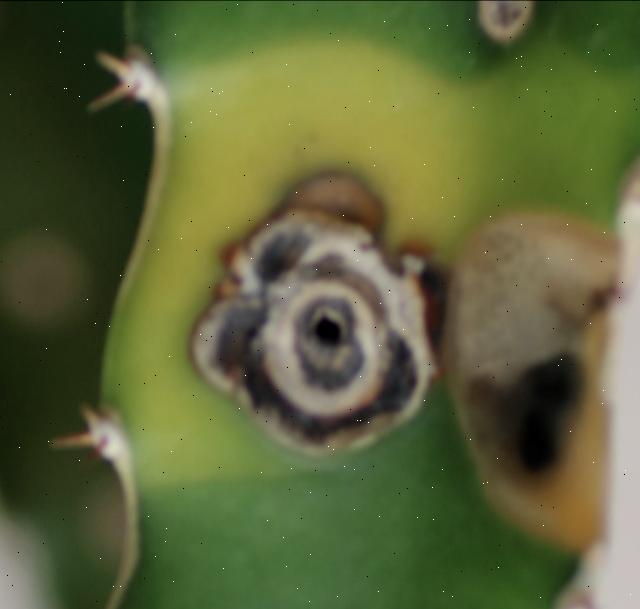stemcanker: (46, 10, 640, 609), (180, 169, 433, 452)
